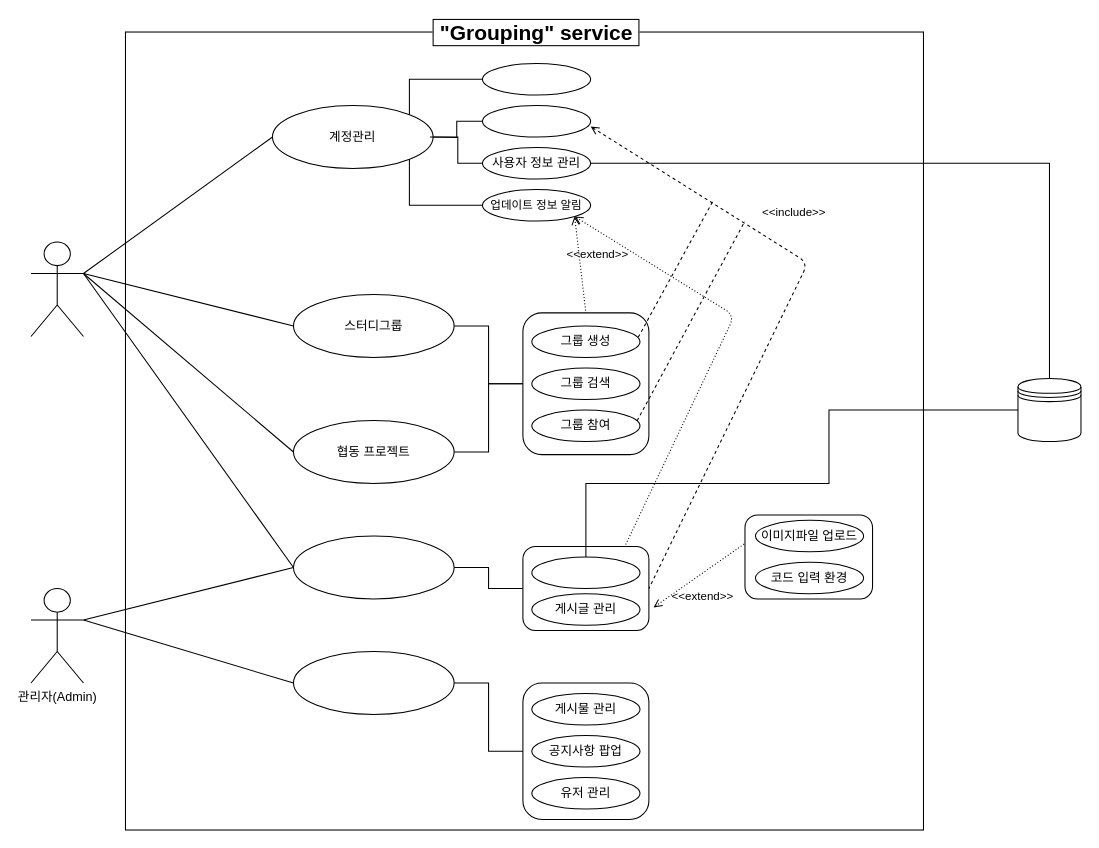
Some shapes in this 1099 by 848 pixel diagram are drawn without their labels. Each missing label, with the box of its shape:
DB: (1017, 377, 1081, 442)
게시글 등록: (531, 556, 640, 589)
로그인: (481, 104, 591, 137)
사용자: (30, 241, 83, 337)
운영 관리: (292, 650, 454, 715)
자유 게시판: (292, 535, 454, 599)
회원가입: (481, 62, 591, 95)
